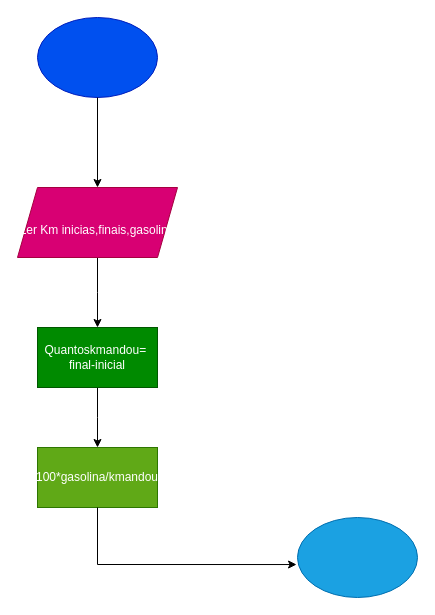
This 435x615 diagram has some shape labels left out. The box of each missing label's shape, as (x1, y1, x2, y2) in pixels:
Fim: (296, 516, 418, 598)
Inicio: (36, 16, 158, 98)
